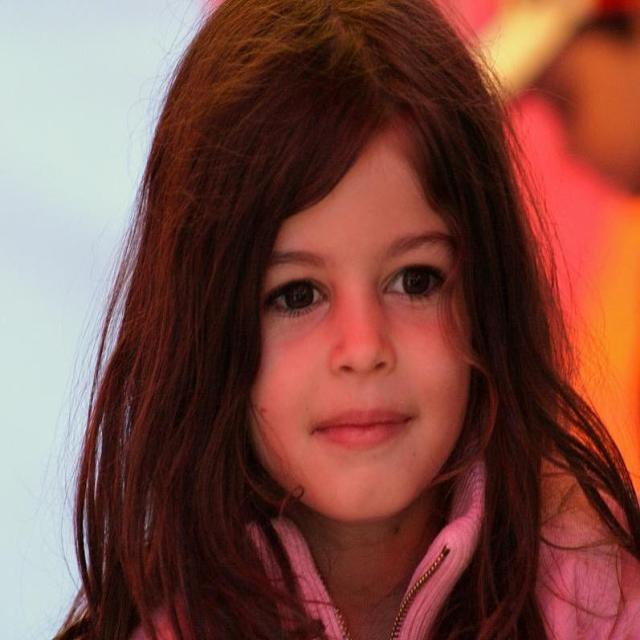no-glass: (260, 257, 456, 332)
